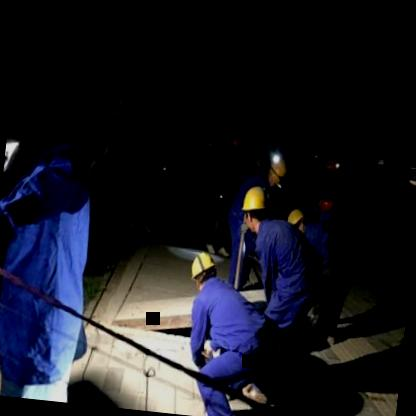helmet: (238, 181, 269, 238), (186, 248, 221, 290), (264, 152, 290, 193), (284, 207, 311, 238)
